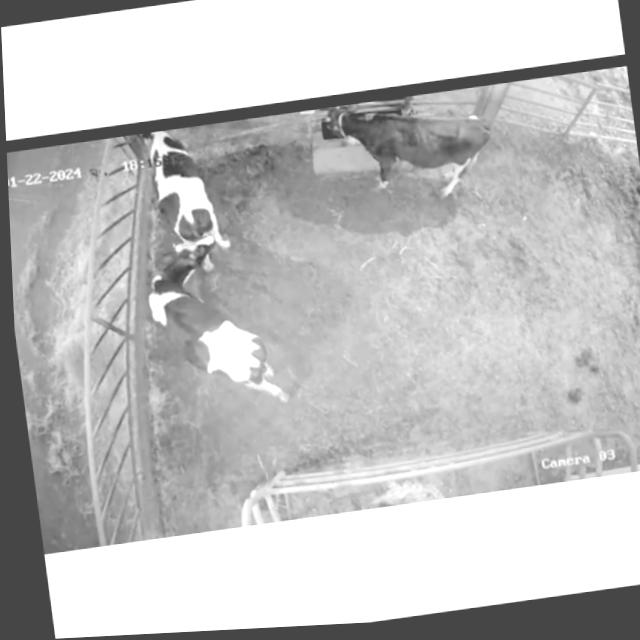drink: (311, 96, 403, 180)
stand: (139, 222, 303, 430), (130, 119, 246, 253)
